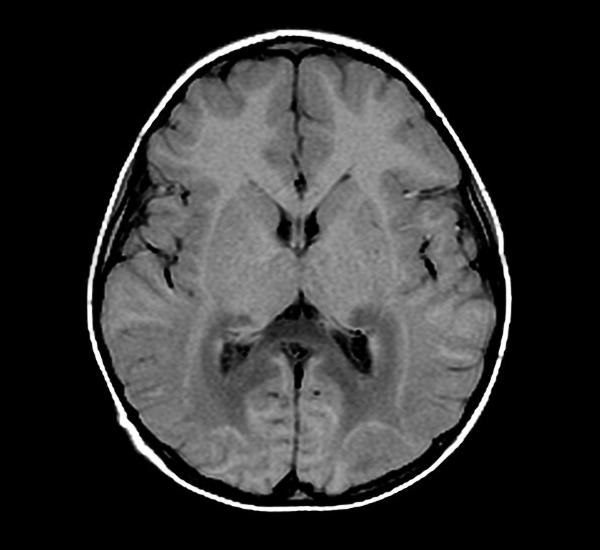Normal_Brain: (1, 1, 600, 550)
